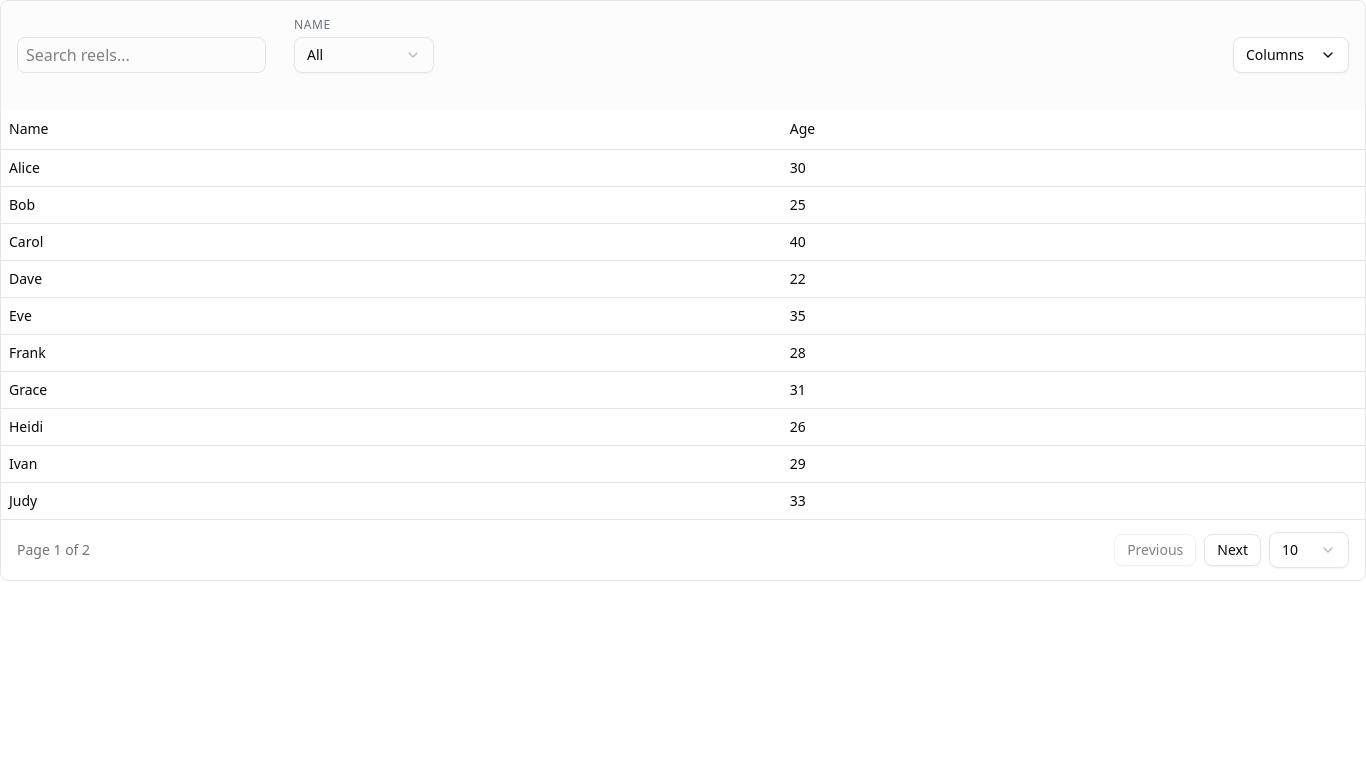
Test: DataTable › filters rows with the global search box
Type "Bob" into the field with placeholder "Search reels..." at (142, 55), box 17,37 -> 266,73
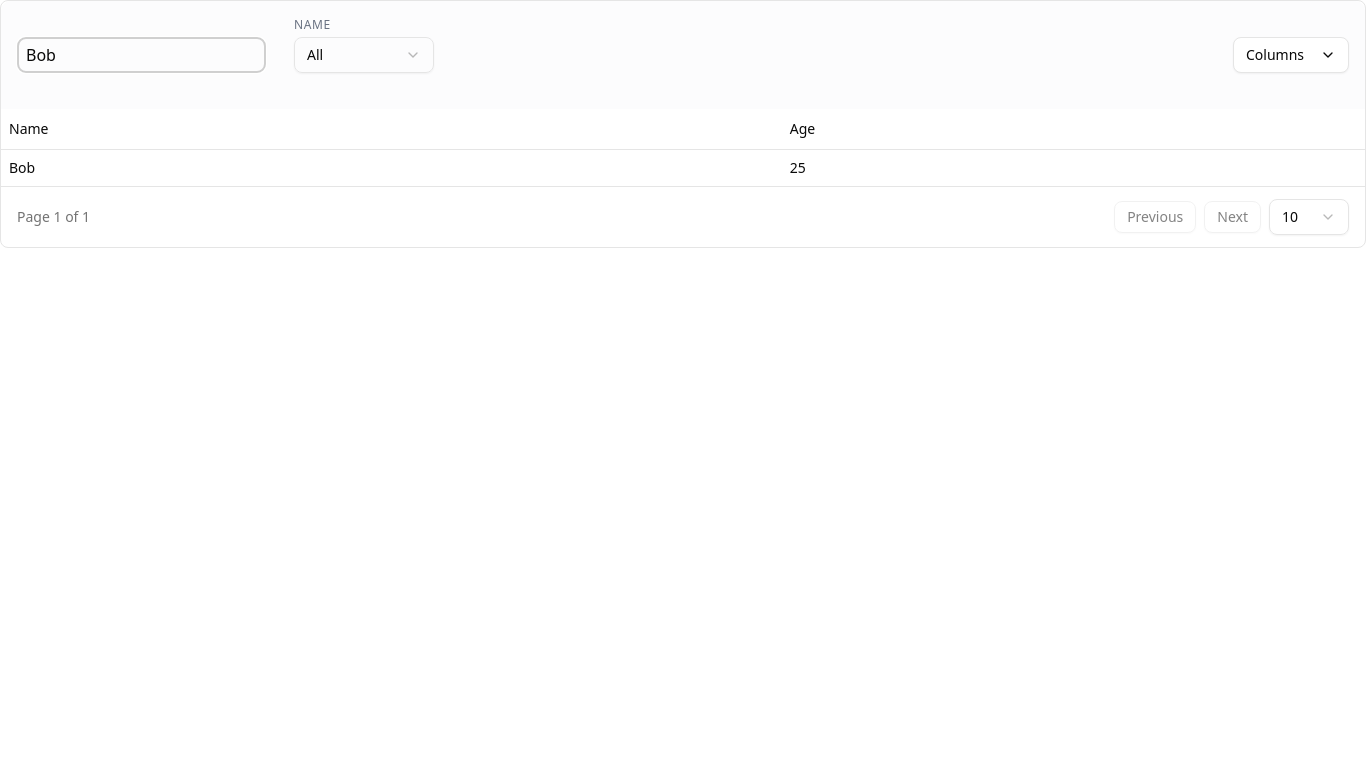
Expected: the text "Bob" is shown, 1,149 -> 782,186
Result: the number of rows is 2 at 1,109 -> 1365,149; 1,149 -> 1365,186
Result: the text "Alice" is gone
